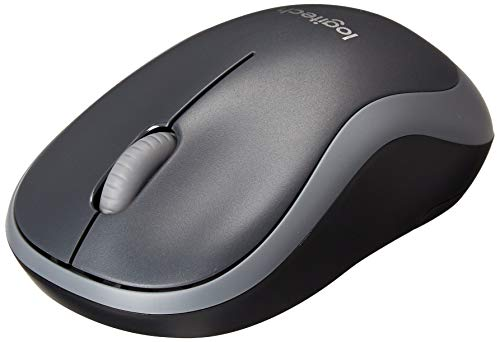logitech-mouse-m185: (4, 3, 496, 337)
